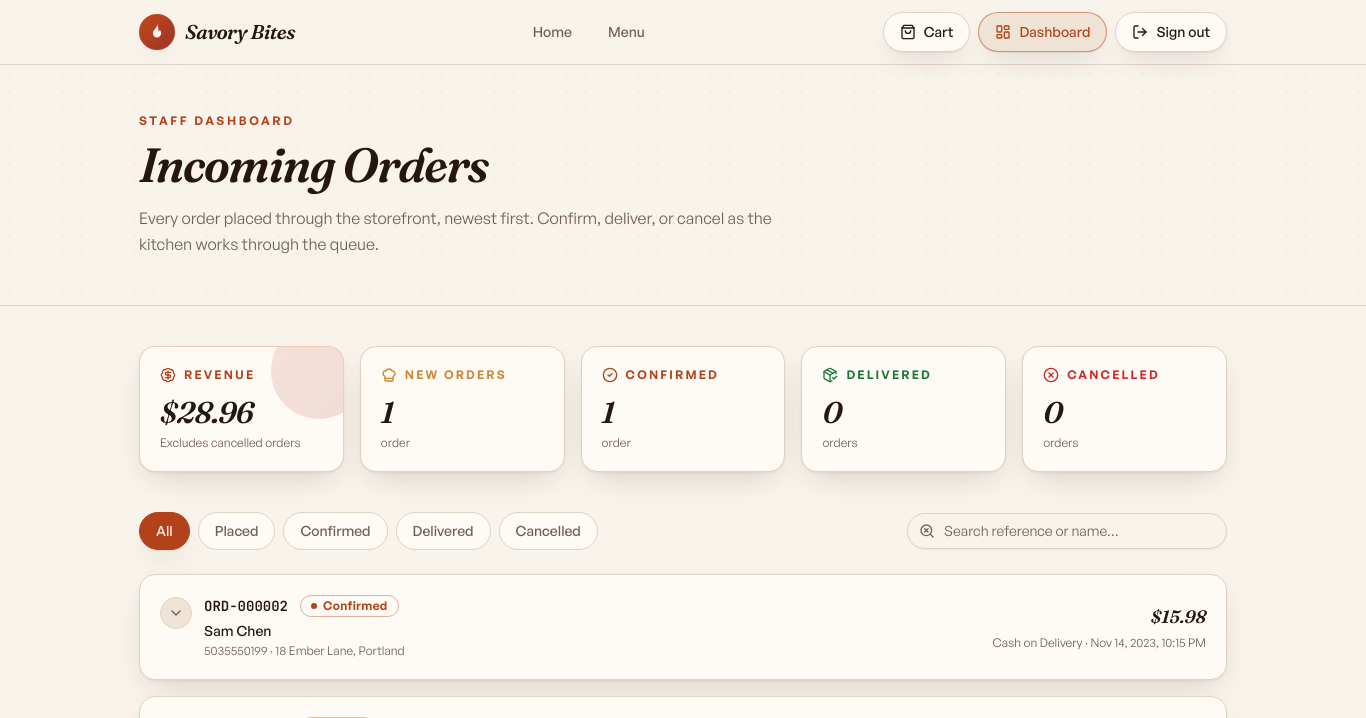
Scenario: admin dashboard › searches by reference or customer name and reflects the query in the URL
Type "alex" into the search field with test id "admin.search_input" at (1067, 531), box [907,513,1227,549]
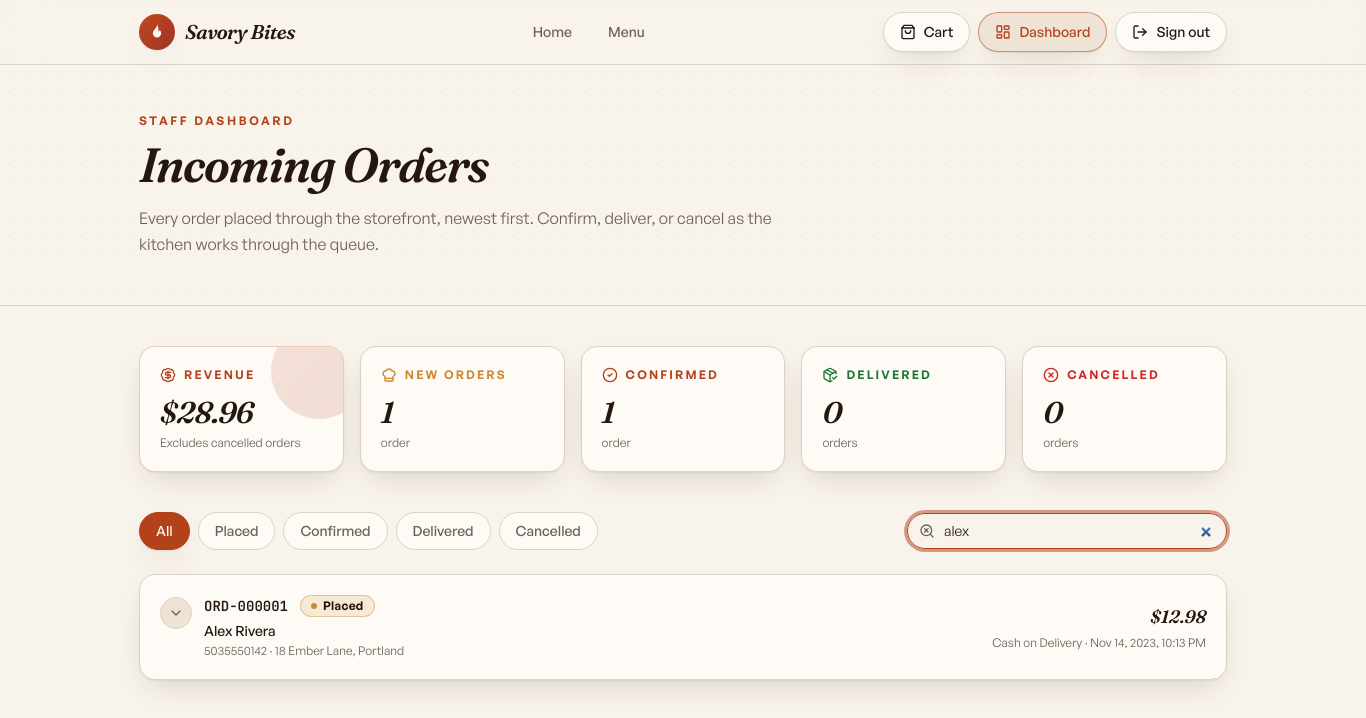
Expected: the text "ORD-000001" is shown, [204,596,288,616]
Result: the button "ORD-000002" is gone
